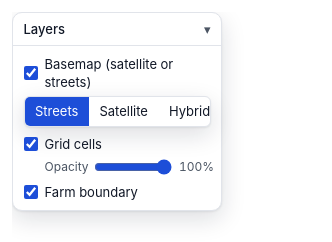
Test: LayerPanel › collapses to a header and expands again
Click the button "Layers ▾".
click(117, 29)  # box [13,13,221,45]
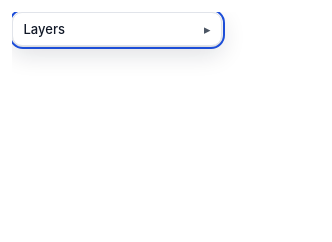
Expected: the button "Layers ▸" is collapsed
Expected: the label "Grid cells" is gone
Click the button "Layers ▸".
click(117, 29)  # box [13,13,221,45]
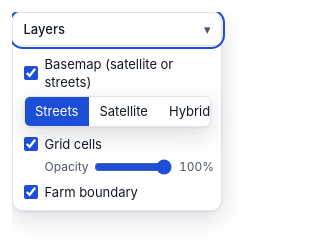
Expected: the checkbox labelled "Grid cells" is shown, [24,137,38,151]
